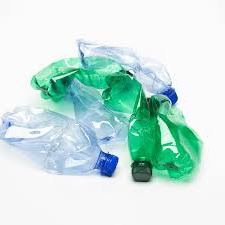plastic water bottle: (101, 70, 204, 188), (1, 102, 120, 187), (73, 30, 184, 106), (31, 57, 147, 110)
